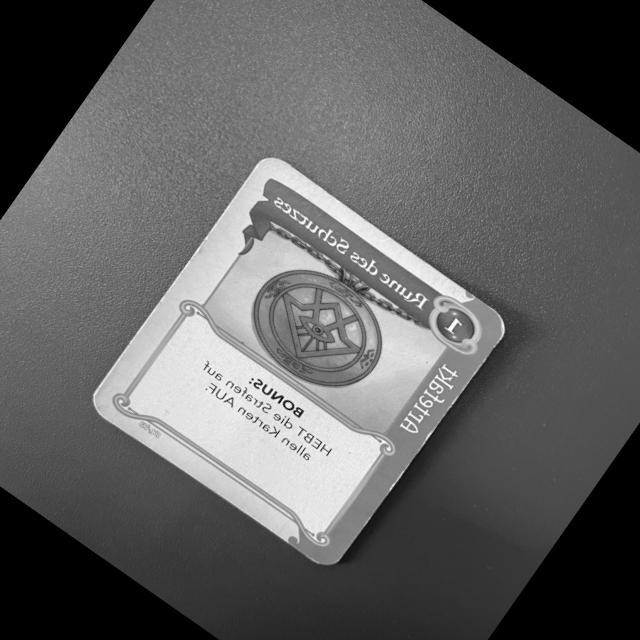Rune Of Protection: (80, 150, 513, 576)
